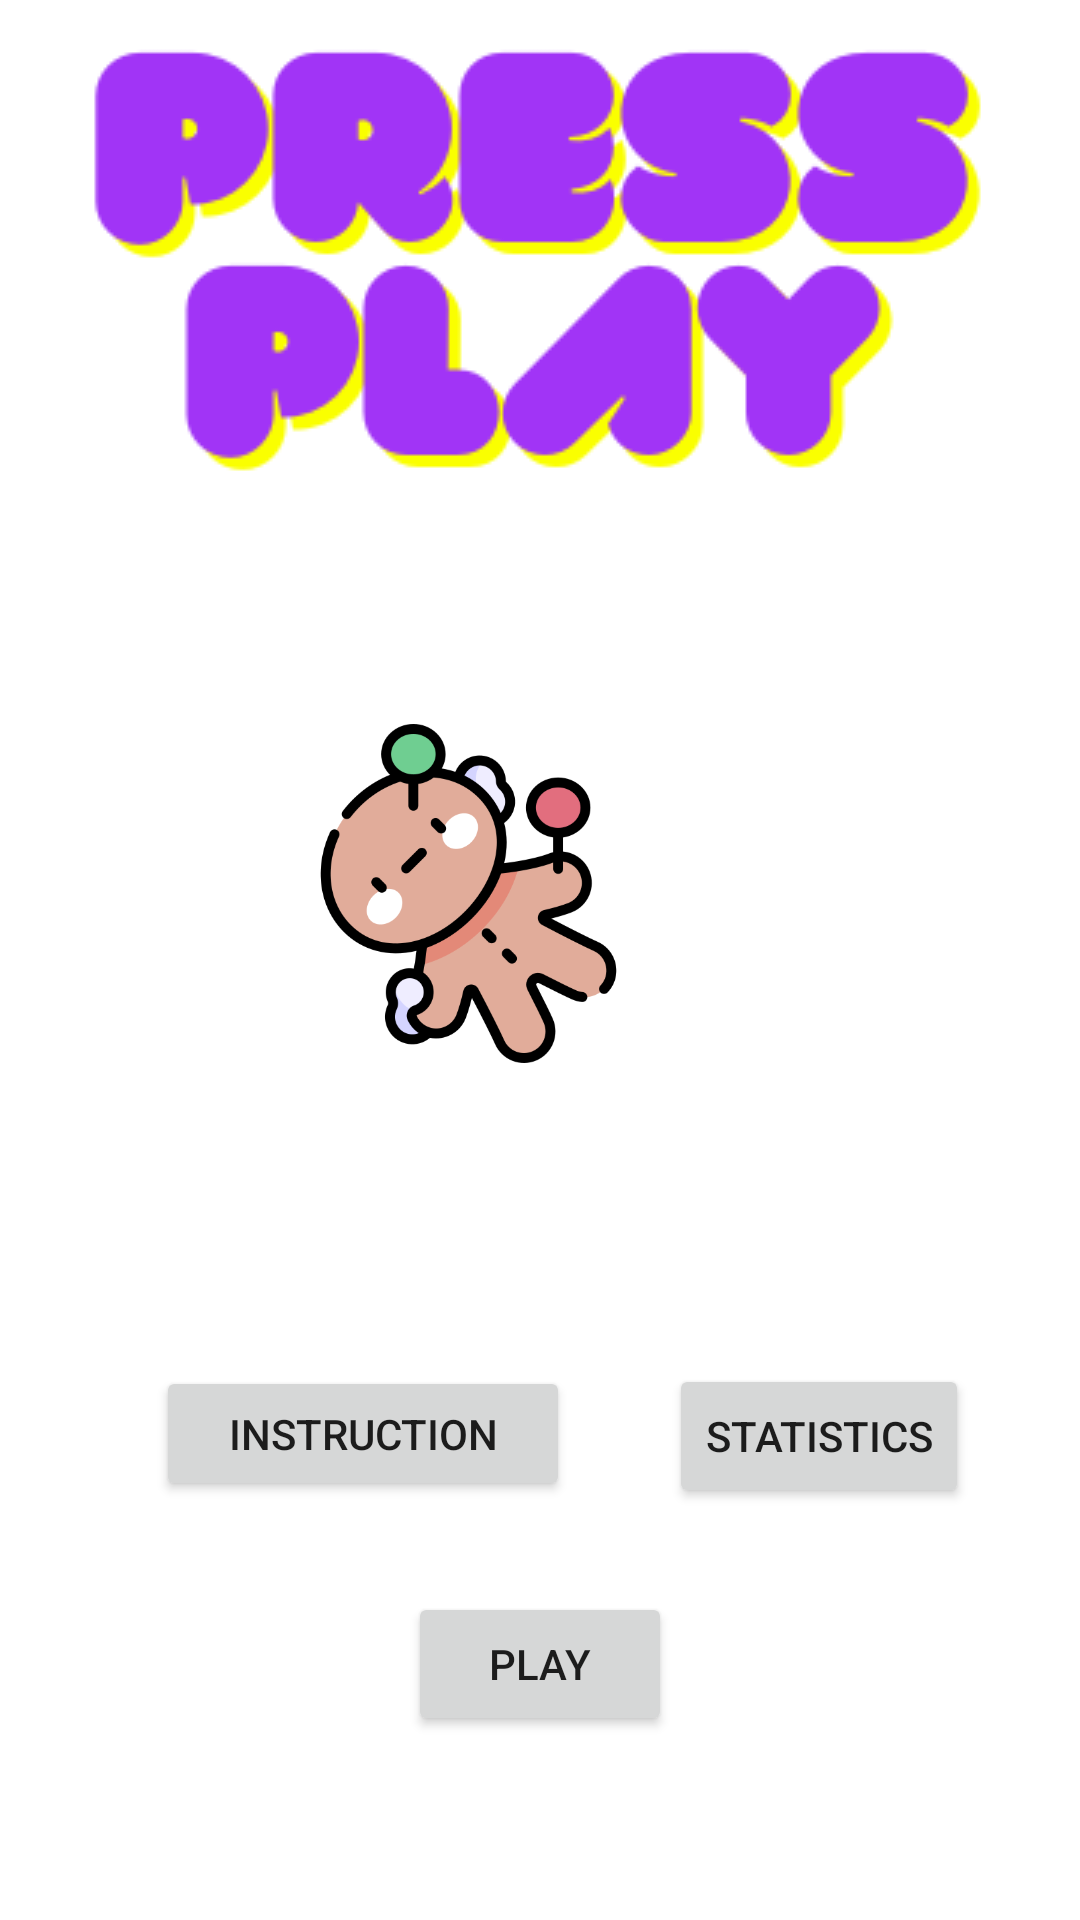

Where icons sit on this 1080*1920 app screen, as bbox(x1, y1, x2, y2):
voodoo: bbox(320, 724, 617, 1063)
